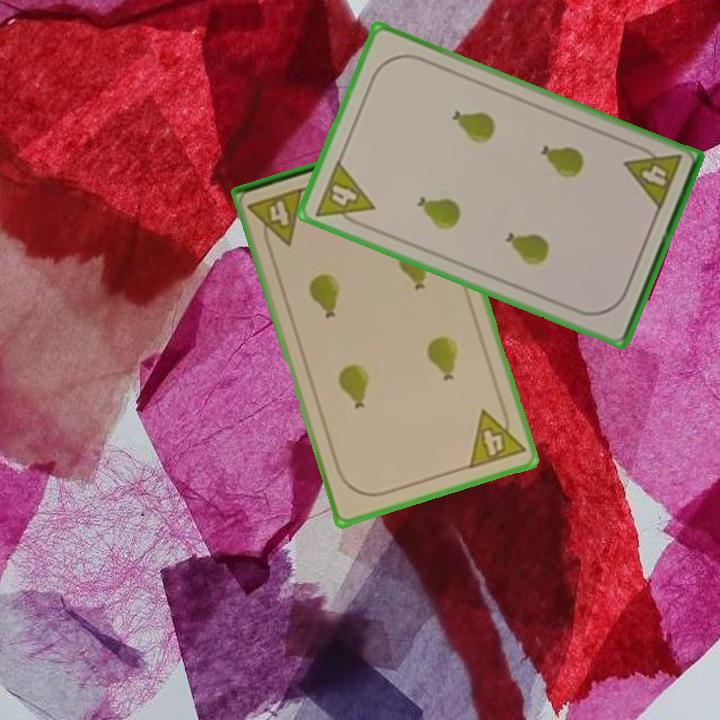4p: (311, 157, 377, 232), (621, 140, 685, 214), (465, 400, 529, 472), (244, 184, 308, 253)
